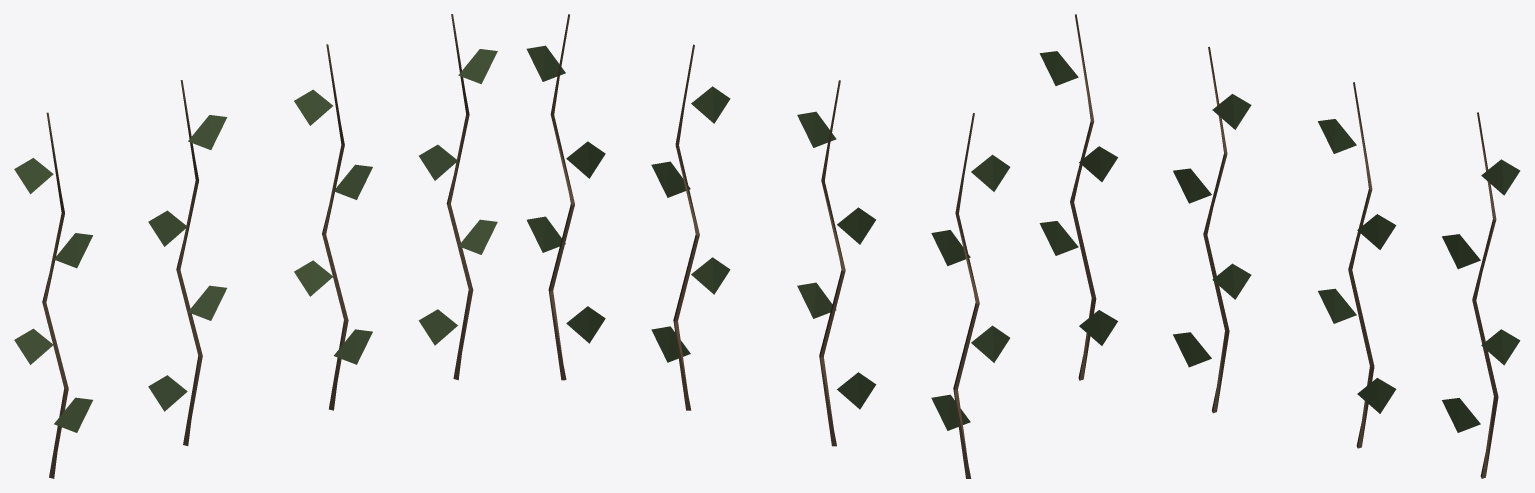
File: vine_wall_cover_4m.glb
3 renders of one model, left to right at view 1: azimuth 30°, elevation 25°; view 2: azimuth 150°, elevation 25°; view 3: azimuth 330°, elevation 25°, orthographic.
Visible parts, largest first — view 1: Body_vine_wall_cover_4m.001; view 2: Body_vine_wall_cover_4m.001; view 3: Body_vine_wall_cover_4m.001.
Boxes of the visible parts, <box> form: Body_vine_wall_cover_4m.001: <box>14,14,497,478</box>; Body_vine_wall_cover_4m.001: <box>526,14,1010,478</box>; Body_vine_wall_cover_4m.001: <box>1039,14,1520,478</box>.
Bounding box in the file's own units: 4.15 × 3 × 0.0556.
